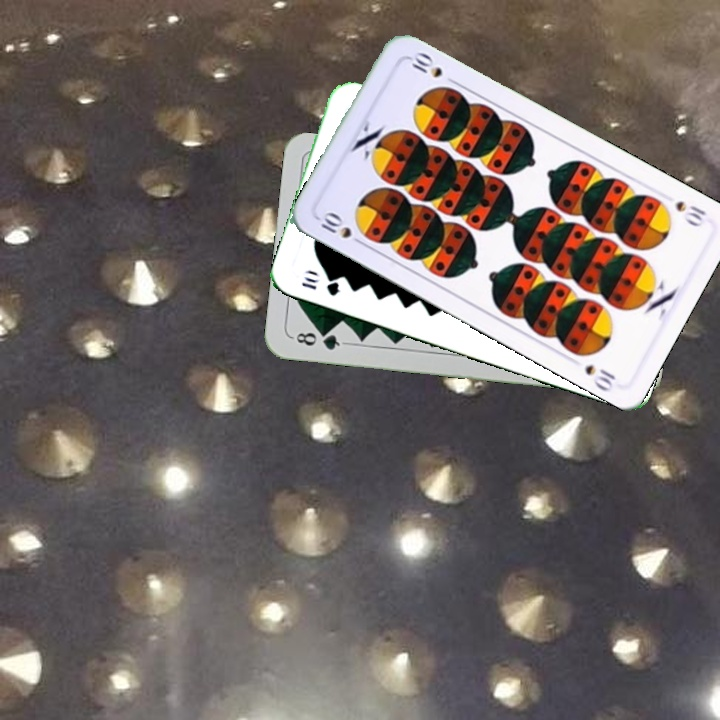G10: (297, 273, 342, 299)
G8: (289, 327, 348, 353)
S10: (314, 207, 371, 249), (671, 196, 709, 230)
